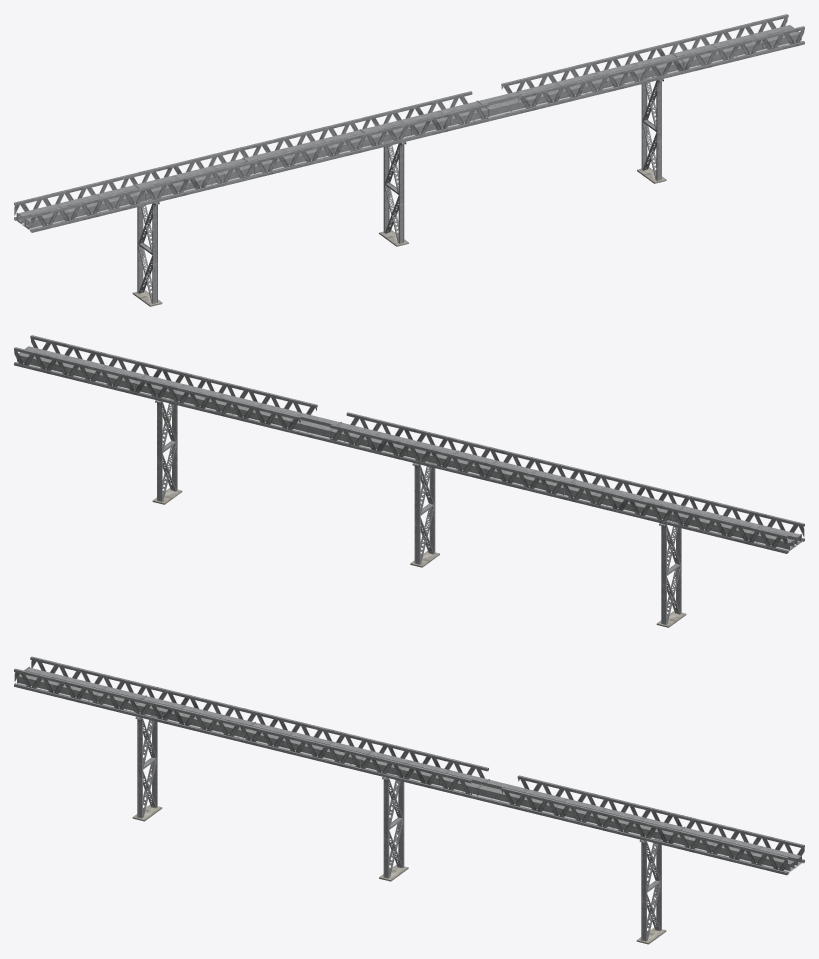
The model's file is plant-metal4.glb.
3 renders of one model, top to bottom at view 1: azimuth 30°, elevation 25°; view 2: azimuth 150°, elevation 25°; view 3: azimuth 330°, elevation 25°, orthographic.
Visible parts, largest first — view 1: Object8934415; view 2: Object8934415; view 3: Object8934415.
Part boxes in pixels (x1,y1,x2,y2): Object8934415: (14, 14, 804, 306); Object8934415: (14, 335, 804, 627); Object8934415: (14, 656, 804, 944).
Size of the model in its own units: 69.46 by 10.32 by 3.04.
1 material, 1 textured.
